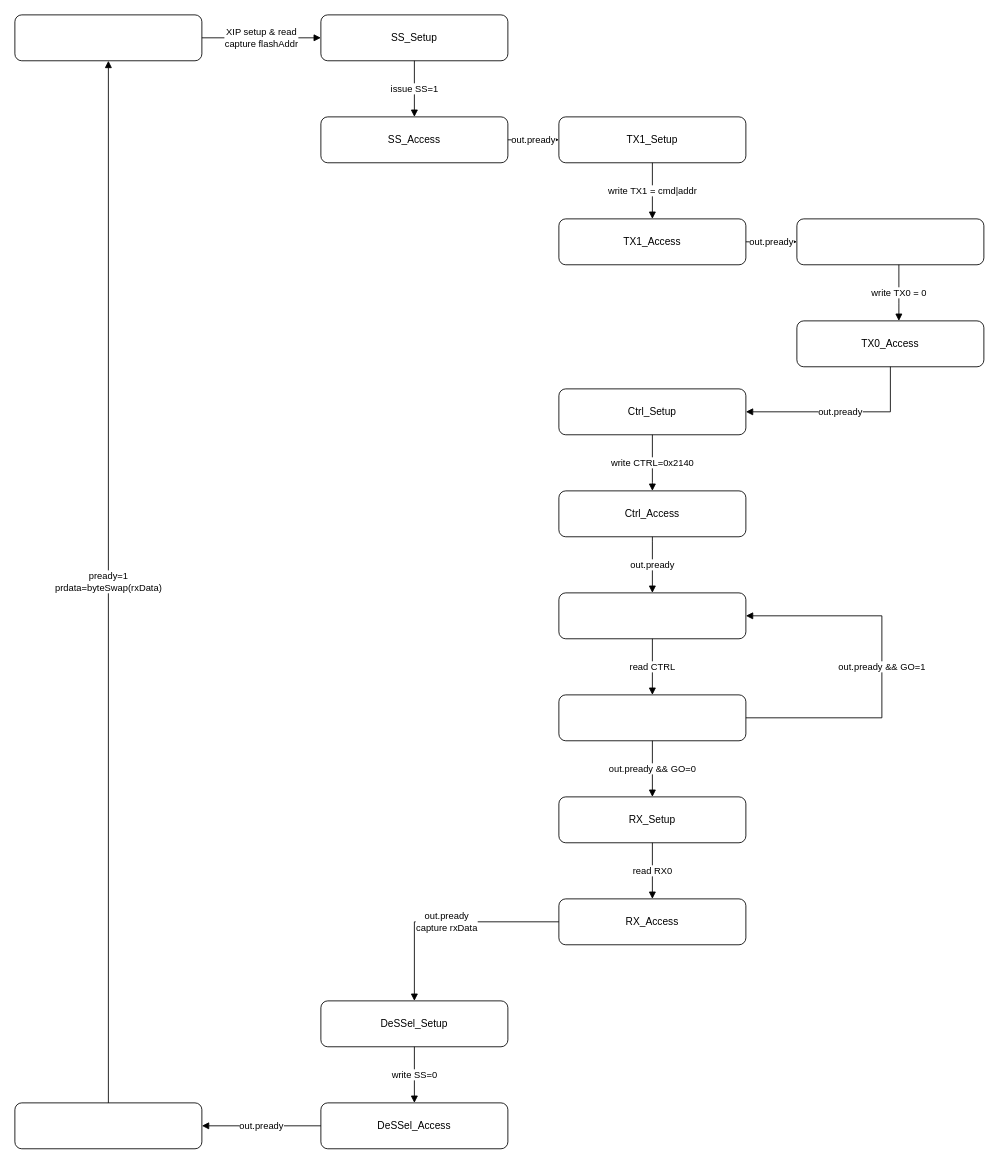
Image size: 999x1164. Some labels were removed from this diagram. Here are the shapes that lost their labels. From the top down, the centre of each, then its label:
[108,37]: Passthrough
[890,241]: TX0_Setup
[652,615]: Poll_Setup
[652,717]: Poll_Access
[108,1125]: Respond
